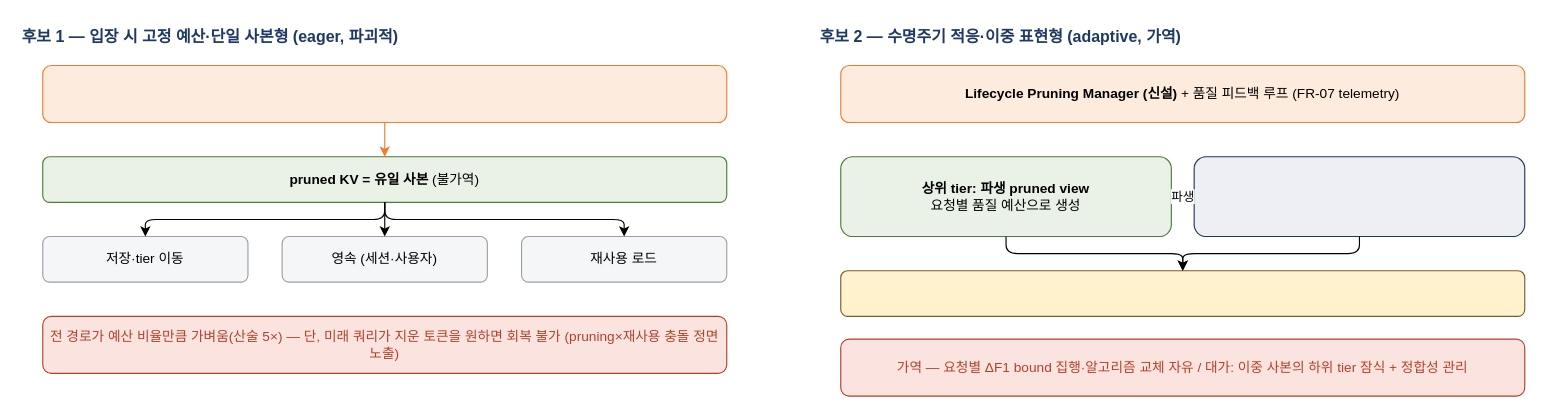
This 1566x416 diagram has some shape labels left out. The centre of each missing label's shape, as x and y in pixels:
"KV Index: 이중 표현 — 원본 ↔ 파생 view를 함께 지시" goes at pixel 1182 293.
"Prefill-exit Pruner (신설, 훅 1점) — 전역 예산(예: 토큰 20%)으로 확정 집행" goes at pixel 384 93.
"하위 tier: 원본 보존 (파괴 대신 강등)" goes at pixel 1359 196.
